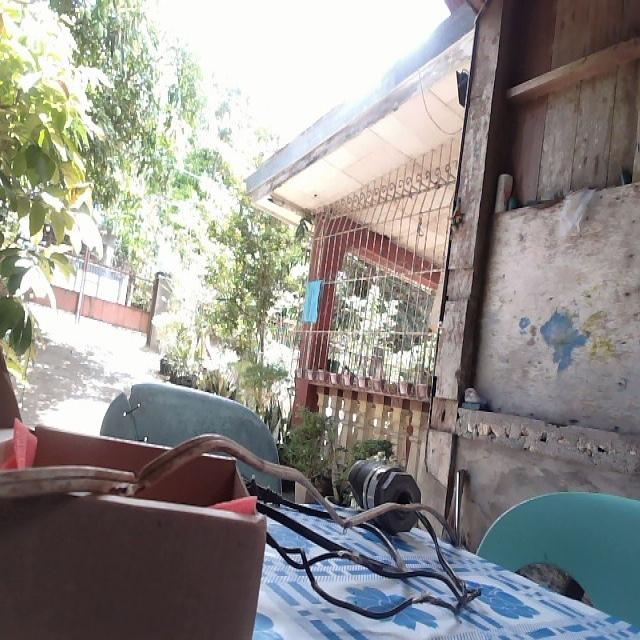-: (337, 547, 361, 565), (341, 520, 354, 529)
